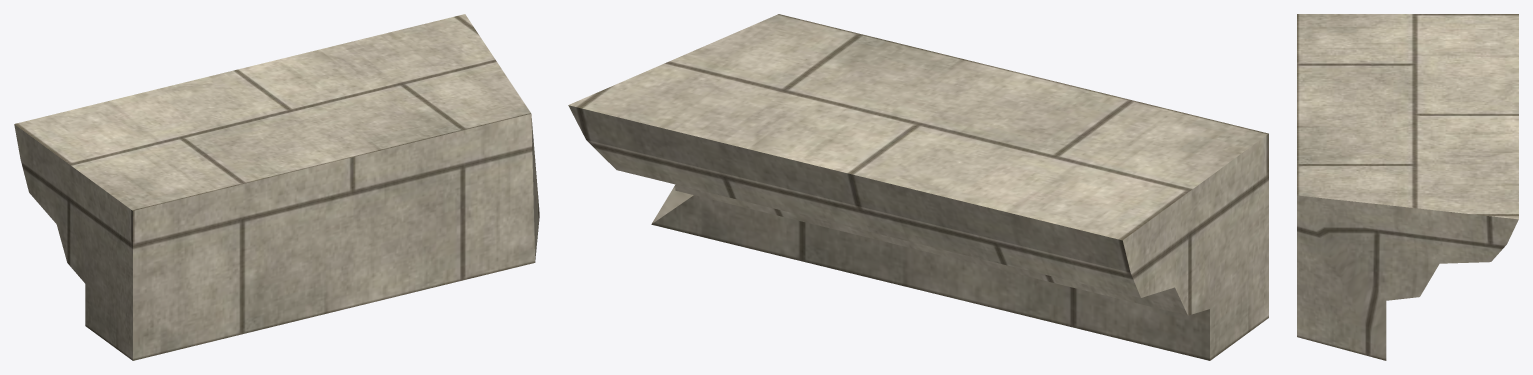
File: debris_nyc_limestone_cornice.glb
3 renders of one model, left to right at view 1: azimuth 30°, elevation 25°; view 2: azimuth 150°, elevation 25°; view 3: azimuth 270°, elevation 25°, orthographic. The views are drawn at different scales.
Visible parts, largest first — view 1: debris_nyc_limestone_cornice; view 2: debris_nyc_limestone_cornice; view 3: debris_nyc_limestone_cornice.
Part boxes in pixels (x1,y1,x2,y2): debris_nyc_limestone_cornice: (14,14,539,360); debris_nyc_limestone_cornice: (568,14,1268,360); debris_nyc_limestone_cornice: (1297,14,1518,360).
Size of the model in its own units: 2.47 by 0.7801 by 1.12.
1 material, 1 textured.
